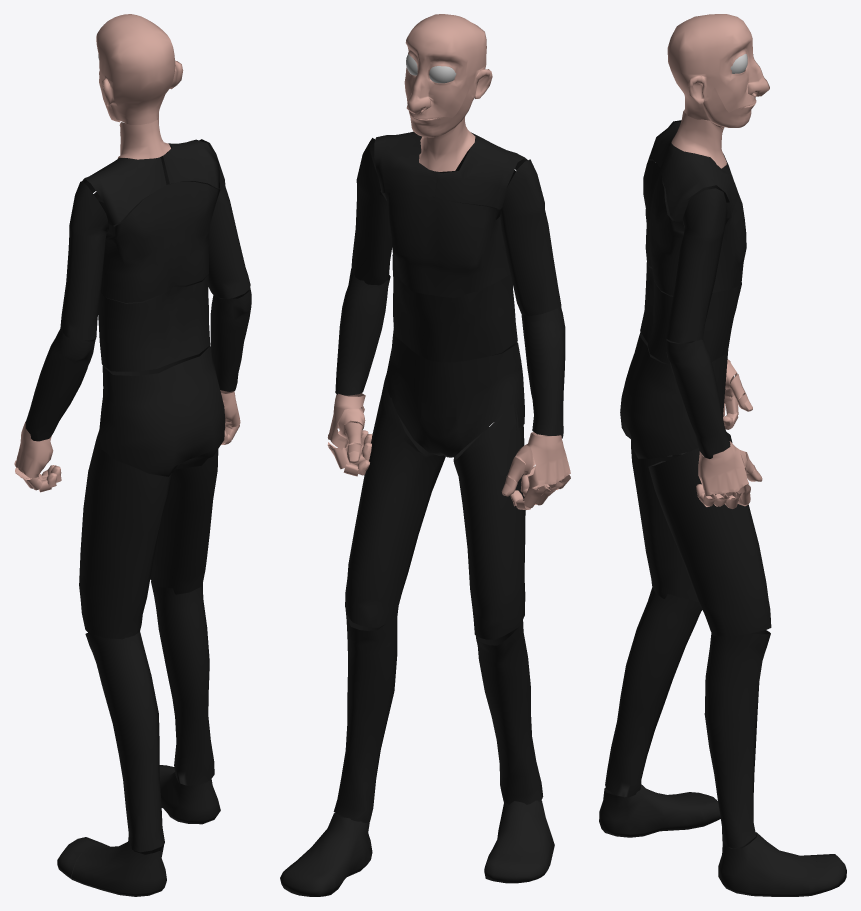
The model's file is idleGrab.obj.
The picture shows the model from 3 angles, left to right: view 1: azimuth 30°, elevation 25°; view 2: azimuth 150°, elevation 25°; view 3: azimuth 270°, elevation 25°; orthographic projection. The views are drawn at different scales.
Size of the model in its own units: 47.84 by 171 by 46.21.
